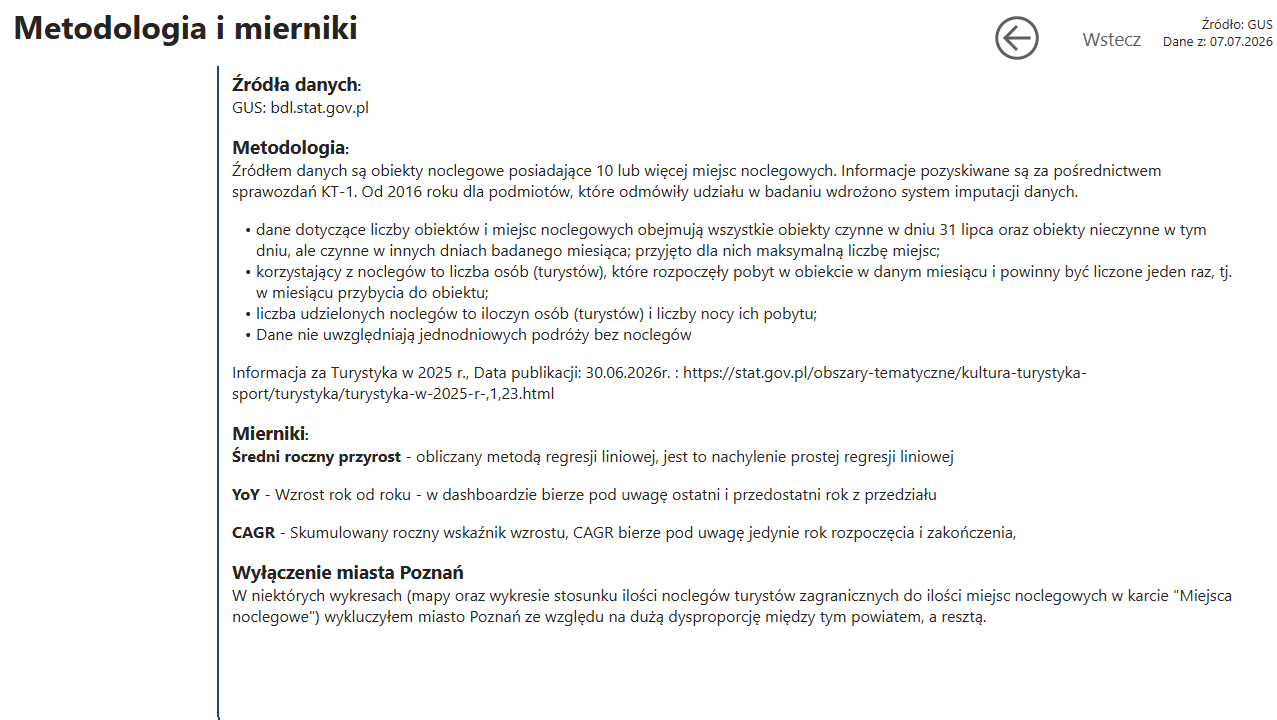

What the dashboard file says about the page in this screenshot:
{"tool":"powerbi","page":{"name":"Metodologia i mierniki","canvas":[1280,720],"ordinal":7},"visuals":[{"type":"shape","box":[211.1,67.1,17.5,652.6],"z":0},{"type":"textbox","box":[9.7,0,792.7,59.3],"z":1000},{"type":"textbox","box":[1122.1,10.7,157.6,56.4],"z":2000},{"type":"textbox","box":[228.6,67.1,1016.4,652.6],"z":3000},{"type":"actionButton","box":[991.1,10.7,155.6,56.4],"z":4000}]}

Visuals, with their boxes in screenshot pixels (x1, y1, x2, y2), scaled from the page's 1280x720 canvas onto the 1277x720 screenshot:
shape: Rect(211, 67, 228, 719)
textbox: Rect(10, 0, 801, 59)
textbox: Rect(1119, 11, 1276, 67)
textbox: Rect(228, 67, 1242, 719)
actionButton: Rect(989, 11, 1144, 67)
